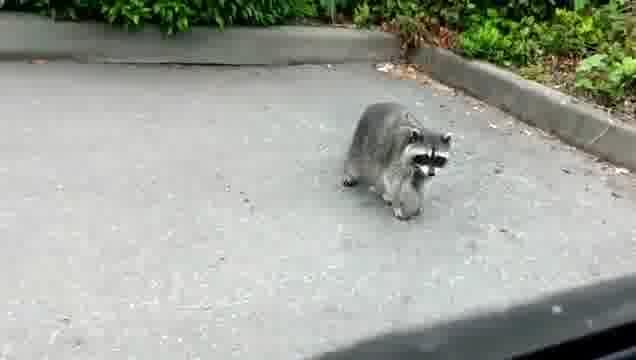raccoon: (343, 101, 454, 223)
